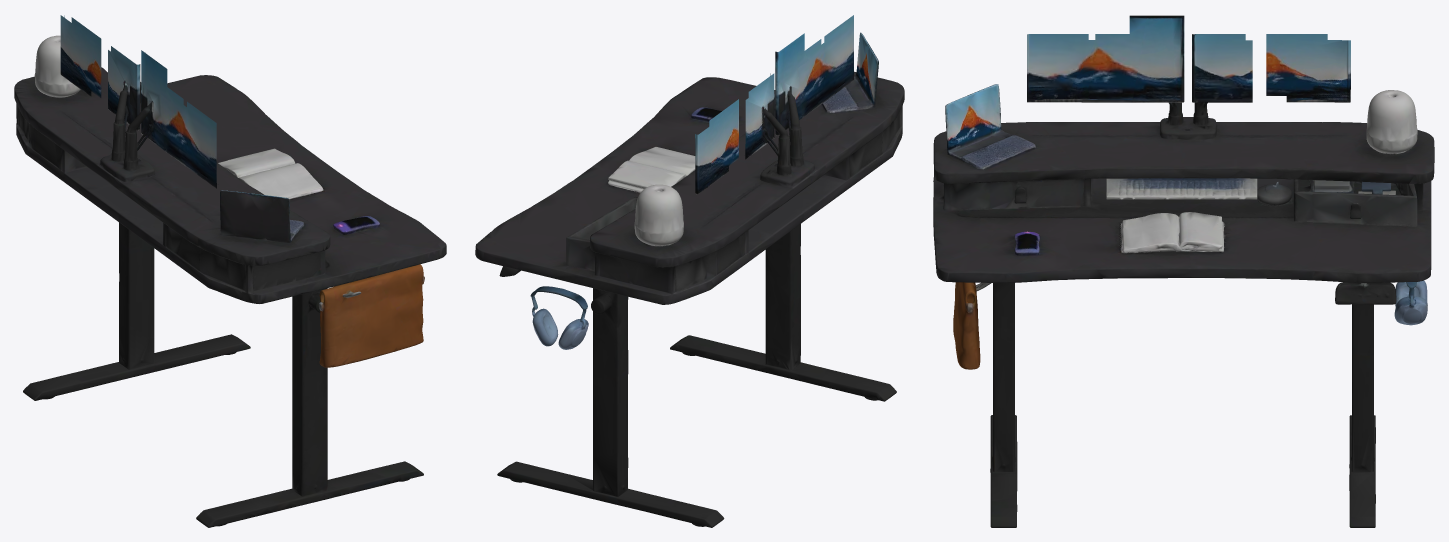
File: B0CQC3RVMV.glb
3 views of the same model, side by side, from view 1: azimuth 30°, elevation 25°; view 2: azimuth 150°, elevation 25°; view 3: azimuth 270°, elevation 25° (orthographic). The views are drawn at different scales.
Parts seen in each view (by area): view 1: tripo_node_6eaf082f-af6e-408e-a46b-a6b4dcf09e3e; view 2: tripo_node_6eaf082f-af6e-408e-a46b-a6b4dcf09e3e; view 3: tripo_node_6eaf082f-af6e-408e-a46b-a6b4dcf09e3e.
Boxes of the visible parts, left/top/right/bottom form: tripo_node_6eaf082f-af6e-408e-a46b-a6b4dcf09e3e: left=14, top=15, right=446, bottom=527; tripo_node_6eaf082f-af6e-408e-a46b-a6b4dcf09e3e: left=475, top=15, right=904, bottom=527; tripo_node_6eaf082f-af6e-408e-a46b-a6b4dcf09e3e: left=933, top=15, right=1434, bottom=527.
Size of the model in its own units: 0.5314 by 0.9273 by 0.9999.
Materials: 1 (1 with a texture image).
